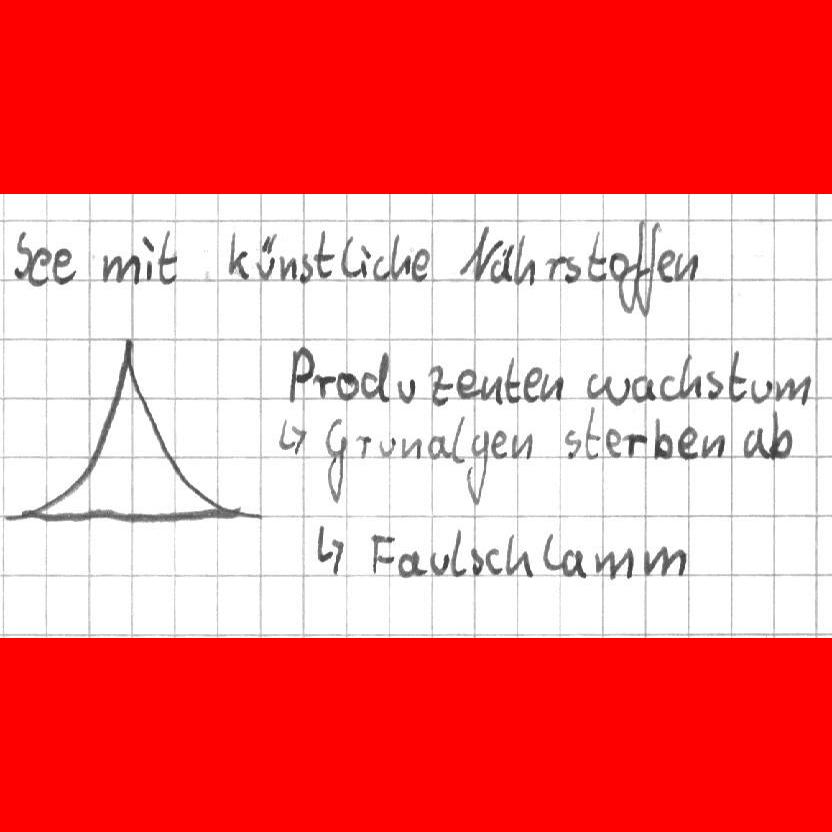Char: (617, 218, 644, 316), (455, 224, 498, 284), (634, 220, 659, 317), (322, 420, 348, 508), (313, 522, 348, 577), (286, 341, 312, 414), (358, 350, 391, 404), (585, 372, 633, 407), (467, 425, 487, 507), (504, 529, 533, 579), (595, 545, 633, 581), (644, 544, 683, 579), (225, 228, 251, 279), (102, 250, 139, 285), (368, 530, 395, 576), (157, 227, 177, 287), (278, 416, 308, 456), (512, 234, 535, 286), (775, 372, 810, 406), (51, 244, 79, 286), (767, 410, 790, 461), (726, 350, 748, 402), (256, 230, 277, 283), (13, 229, 34, 282), (426, 363, 451, 407), (583, 407, 603, 461), (390, 229, 411, 280), (585, 230, 606, 279), (315, 228, 335, 279), (680, 351, 700, 400), (28, 244, 50, 287), (653, 415, 673, 461), (490, 245, 513, 284), (449, 416, 467, 464), (341, 233, 359, 280), (742, 426, 766, 460), (560, 547, 586, 578), (503, 356, 520, 403), (450, 527, 466, 576), (335, 369, 358, 403), (454, 367, 478, 399), (699, 430, 725, 459), (675, 249, 697, 283), (542, 532, 560, 572), (521, 366, 540, 403), (397, 549, 422, 577), (540, 372, 563, 402), (479, 373, 502, 403), (509, 431, 532, 461), (751, 376, 775, 404), (677, 424, 696, 459), (142, 235, 156, 282), (632, 375, 656, 402), (411, 247, 430, 281), (704, 369, 724, 401), (396, 375, 417, 405), (656, 248, 675, 281), (608, 248, 628, 279), (313, 369, 333, 400), (546, 253, 566, 283), (624, 430, 647, 456), (399, 436, 422, 462), (564, 428, 582, 460), (428, 550, 449, 577), (427, 434, 447, 462), (491, 429, 509, 460), (356, 243, 371, 280), (660, 374, 679, 402), (605, 426, 622, 457), (298, 252, 314, 283), (372, 254, 390, 281), (486, 547, 502, 577), (280, 256, 298, 282), (565, 255, 581, 284), (376, 436, 395, 458), (470, 547, 484, 576), (355, 435, 372, 458)
